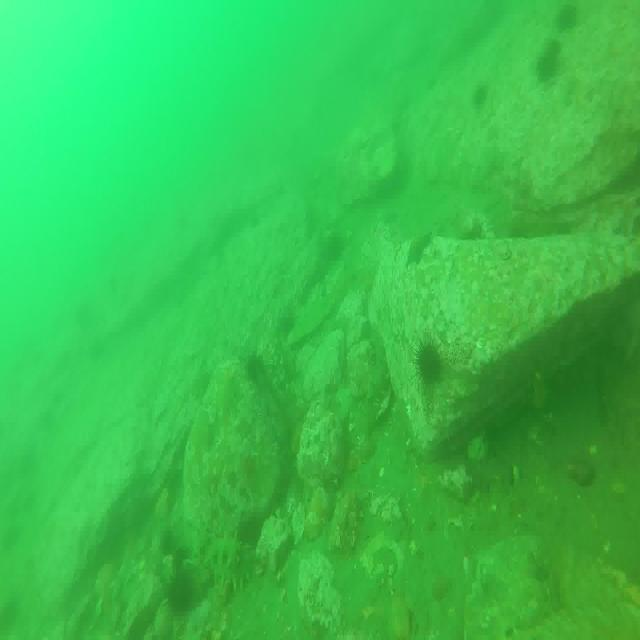echinus: (414, 338, 444, 392), (166, 564, 196, 614), (538, 41, 562, 82), (472, 82, 489, 114), (558, 4, 578, 26)
holothurian: (205, 531, 259, 590)
